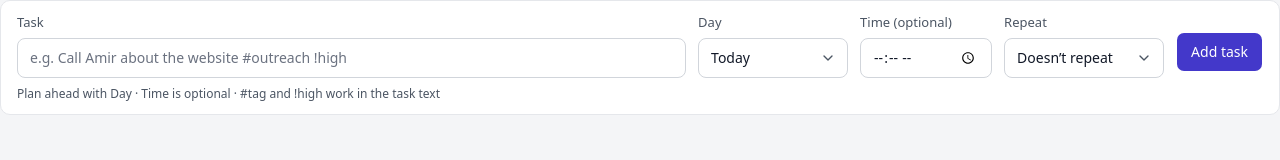
Test: QuickAddBar › asks for words when the text is only shortcuts
Type "#work !high" into the field labelled "Task" at (352, 58), box [17,38,686,78]
Then press Enter
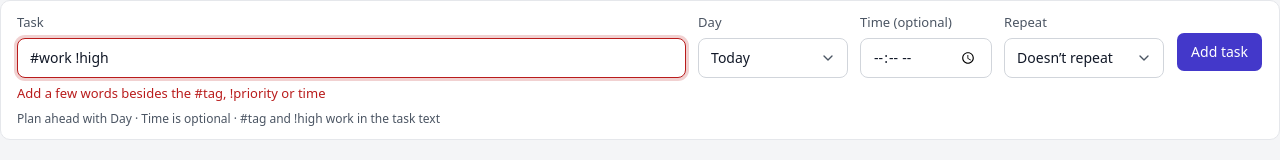
Check: the message shows "Add a few words besides", box [17,84,326,102]
